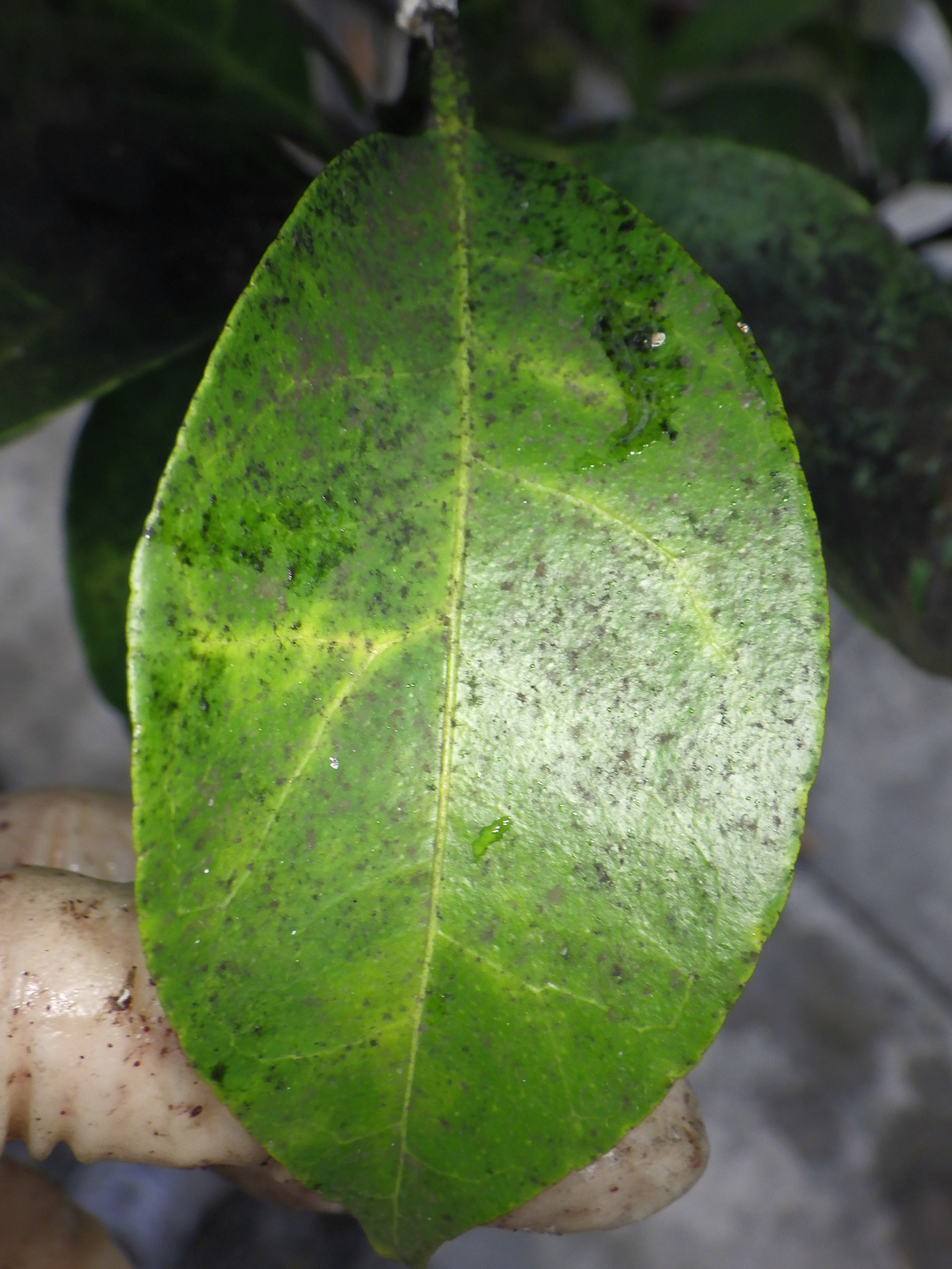Sooty_Mold: (128, 64, 827, 1266)
